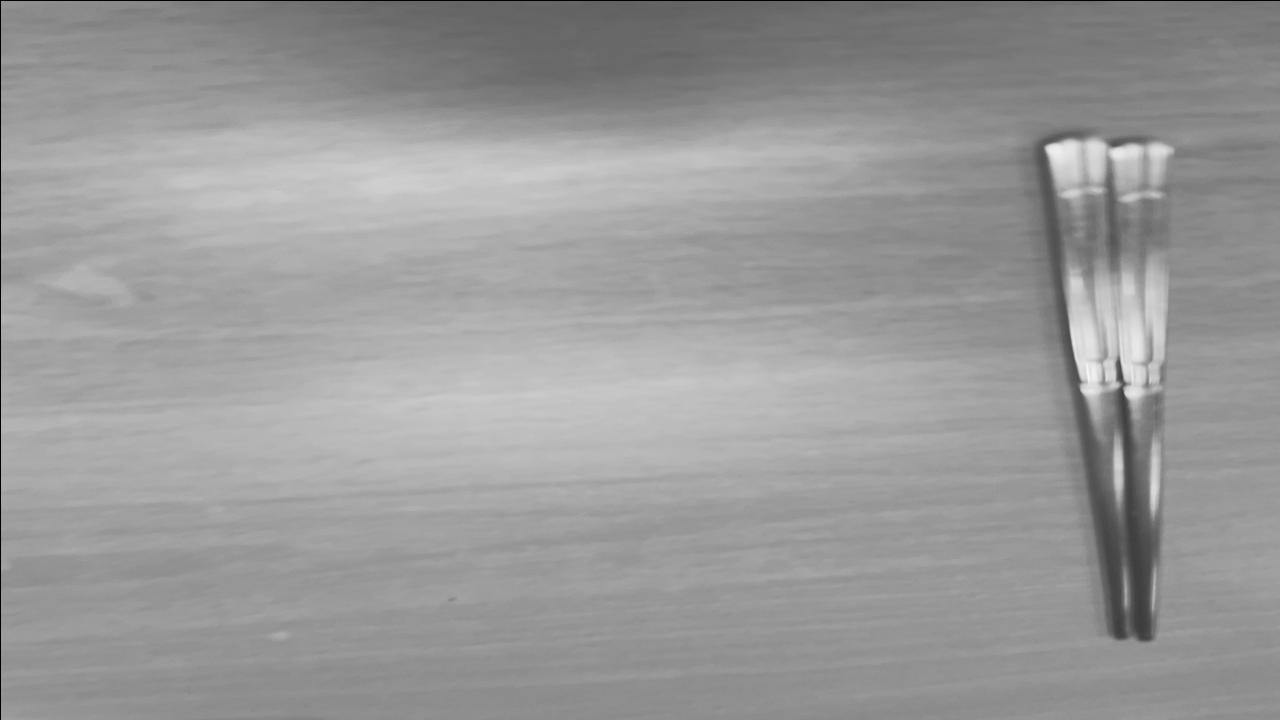chopstick: (1045, 138, 1170, 642)
